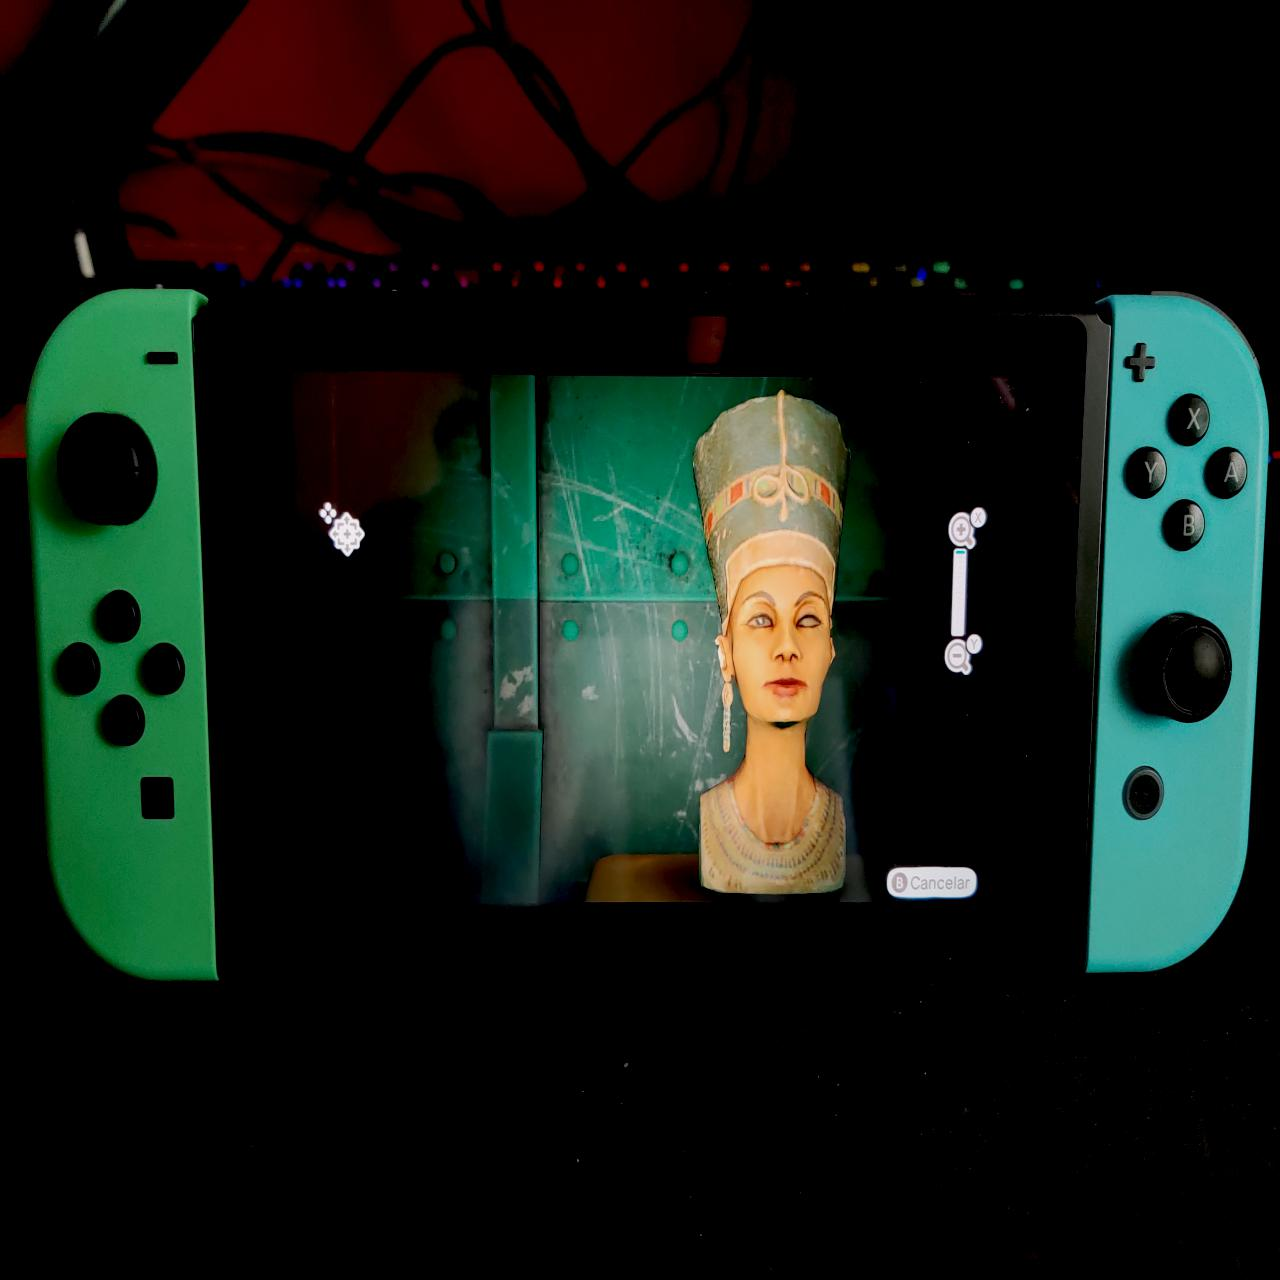NefertitiFake: (690, 392, 855, 896)
